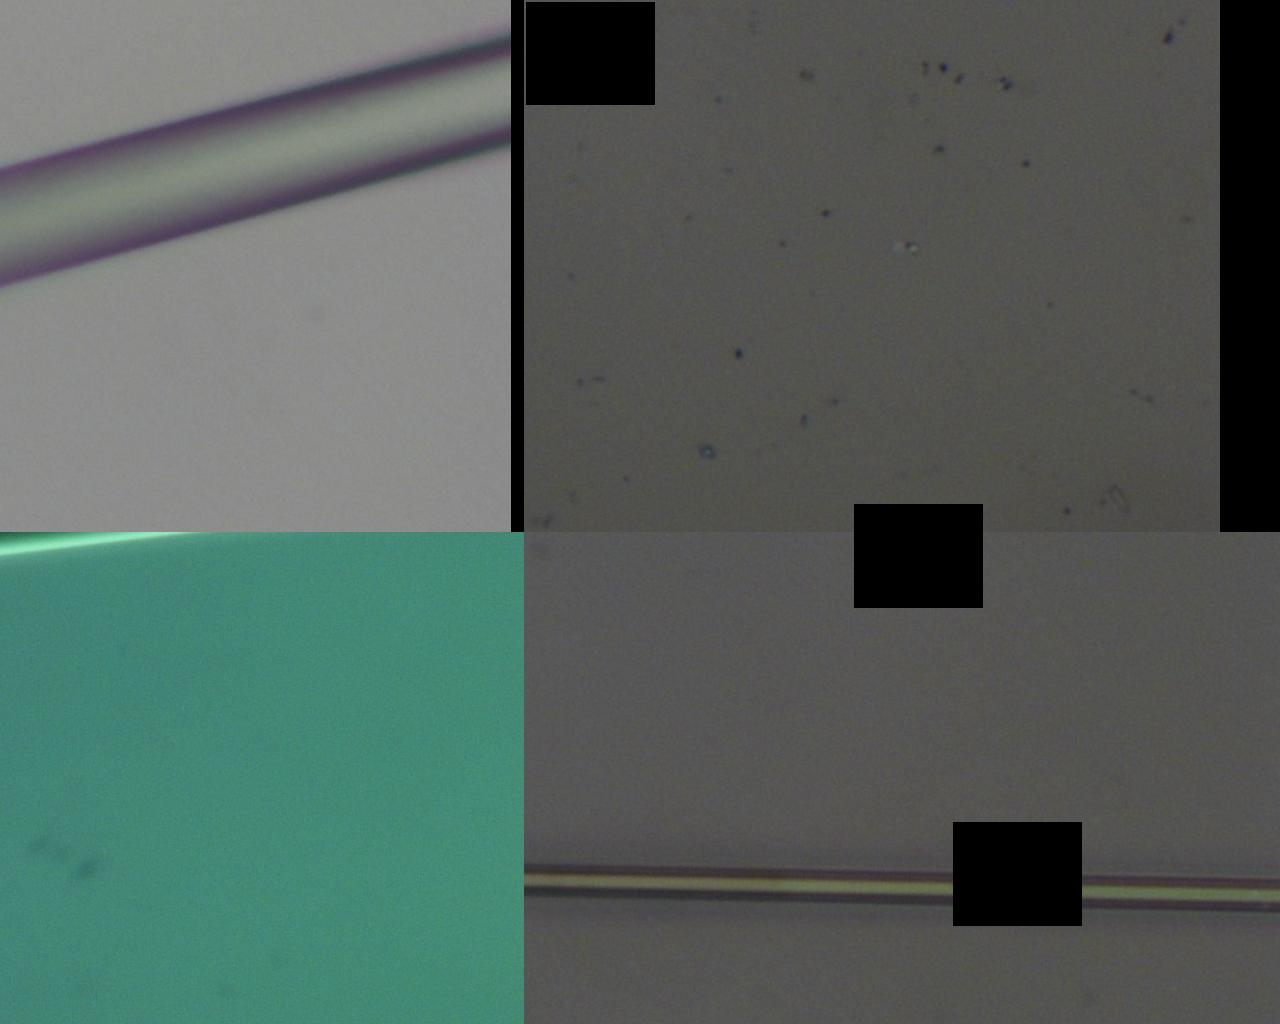fiber: (768, 581, 1280, 967), (119, 266, 768, 310)
